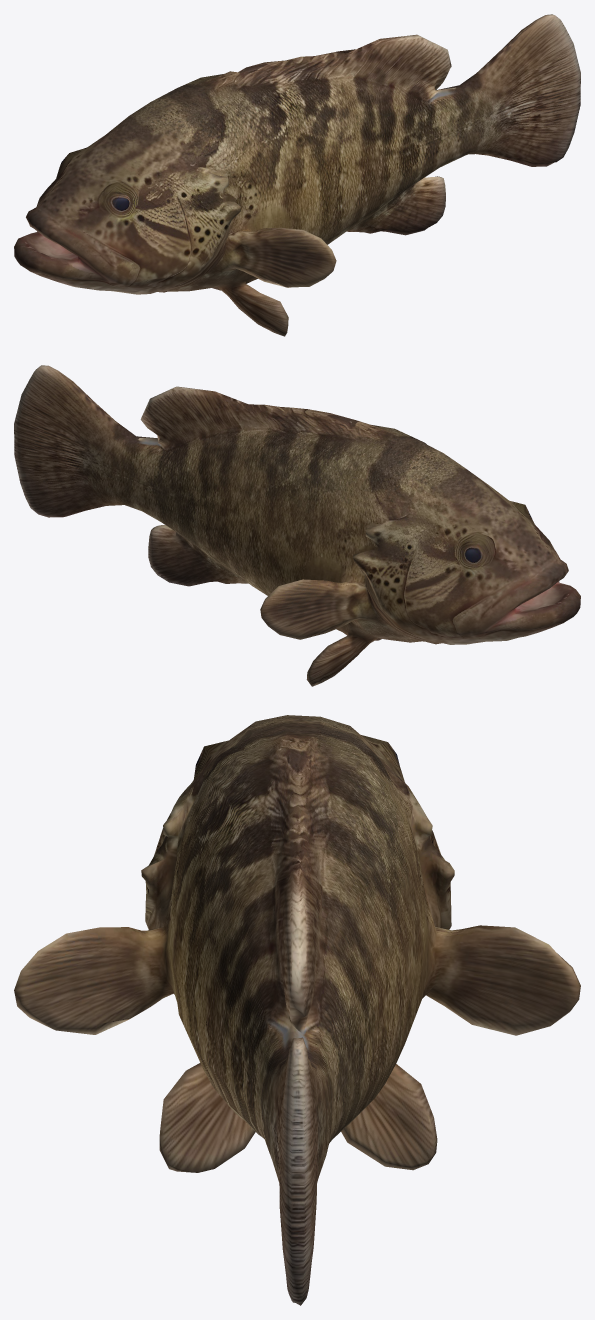
The model's file is merou.glb.
The picture shows the model from 3 angles, top to bottom: view 1: azimuth 30°, elevation 25°; view 2: azimuth 150°, elevation 25°; view 3: azimuth 270°, elevation 25°; orthographic projection. The views are drawn at different scales.
Parts seen in each view (by area): view 1: tripo_node_df2915ef; view 2: tripo_node_df2915ef; view 3: tripo_node_df2915ef.
Part boxes in pixels (x1,y1,x2,y2): tripo_node_df2915ef: (14, 14, 580, 336); tripo_node_df2915ef: (14, 365, 580, 686); tripo_node_df2915ef: (14, 715, 580, 1305).
Bounding box in the file's own units: 97.52 × 40.21 × 49.68.
1 material, 1 textured.
